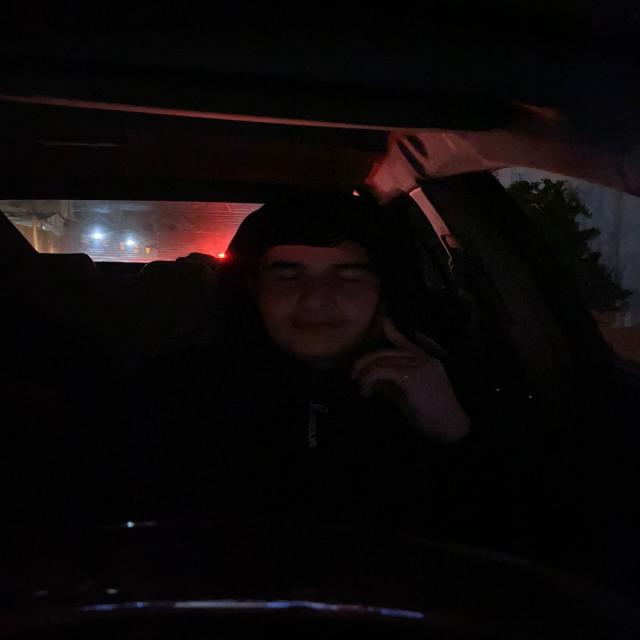person: (236, 218, 390, 363)
